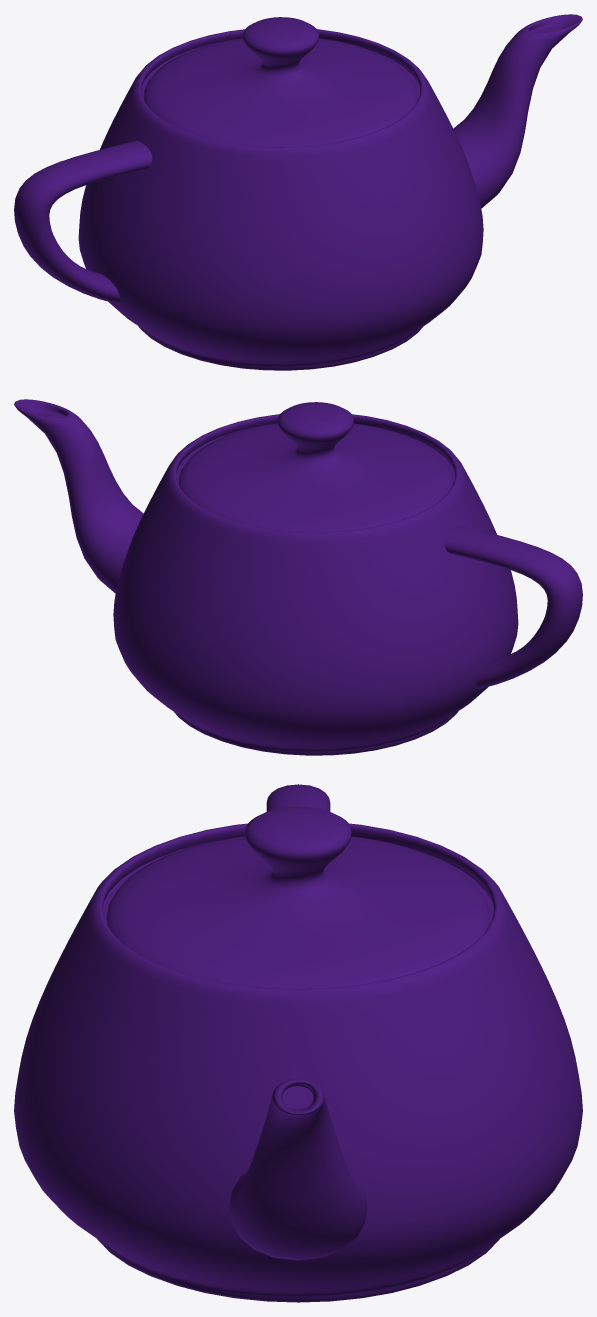
Rendered from Teapot.obj.
3 renders of one model, top to bottom at view 1: azimuth 30°, elevation 25°; view 2: azimuth 150°, elevation 25°; view 3: azimuth 270°, elevation 25°, orthographic. The views are drawn at different scales.
Visible parts, largest first — view 1: Teapot; view 2: Teapot; view 3: Teapot.
Part boxes in pixels (x1,y1,x2,y2): Teapot: [14, 14, 582, 370]; Teapot: [14, 399, 582, 755]; Teapot: [14, 784, 582, 1302].
Size of the model in its own units: 0.0643 by 0.0315 by 0.0401.
